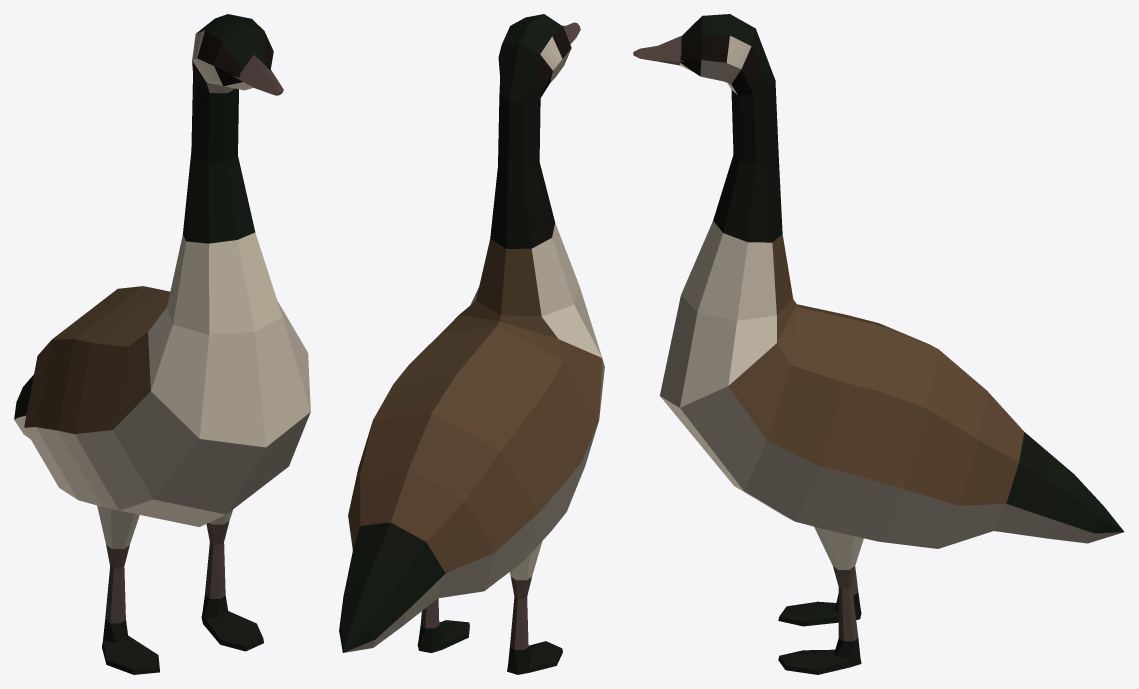
File: Goose-transformed.glb
3 views of the same model, side by side, from view 1: azimuth 30°, elevation 25°; view 2: azimuth 150°, elevation 25°; view 3: azimuth 270°, elevation 25° (orthographic). The views are drawn at different scales.
Parts seen in each view (by area): view 1: Geo_Goose; view 2: Geo_Goose; view 3: Geo_Goose.
Part boxes in pixels (left/top/right/bottom): Geo_Goose: left=14, top=14, right=310, bottom=674; Geo_Goose: left=339, top=14, right=604, bottom=674; Geo_Goose: left=633, top=14, right=1124, bottom=674.
Size of the model in its own units: 25.47 by 76.94 by 54.81.
Materials: 1 (1 with a texture image).
